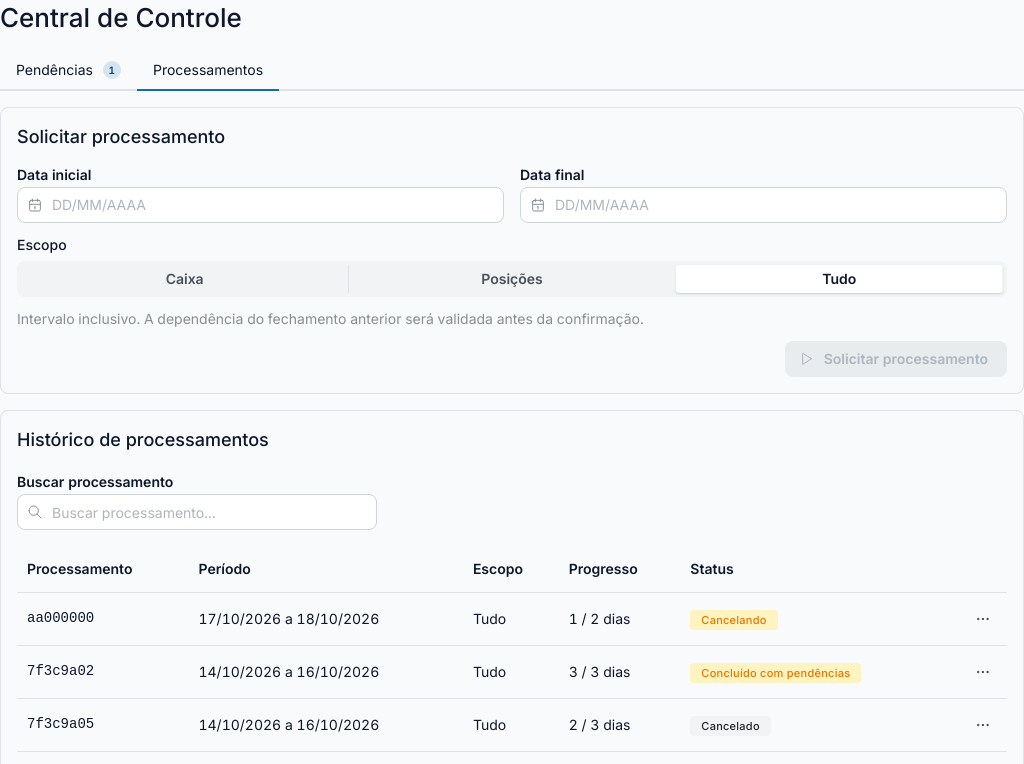
Processamentos: details (§11.1, §10.4) › OQ-46 the details of a running job with a cancel asked show Cancelando and no cancel action
Click the button named "Ações do processamento".
click(983, 619)  # box [969,605,997,633]
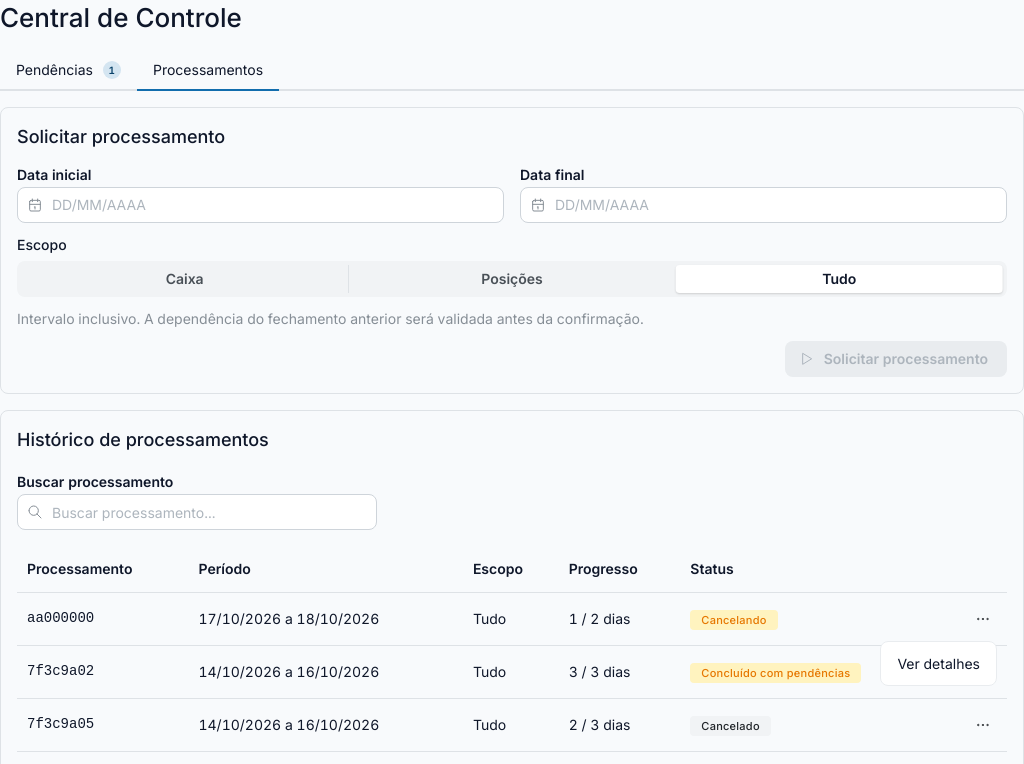
Click the menu item "Ver detalhes".
click(939, 663)  # box [885,646,992,681]
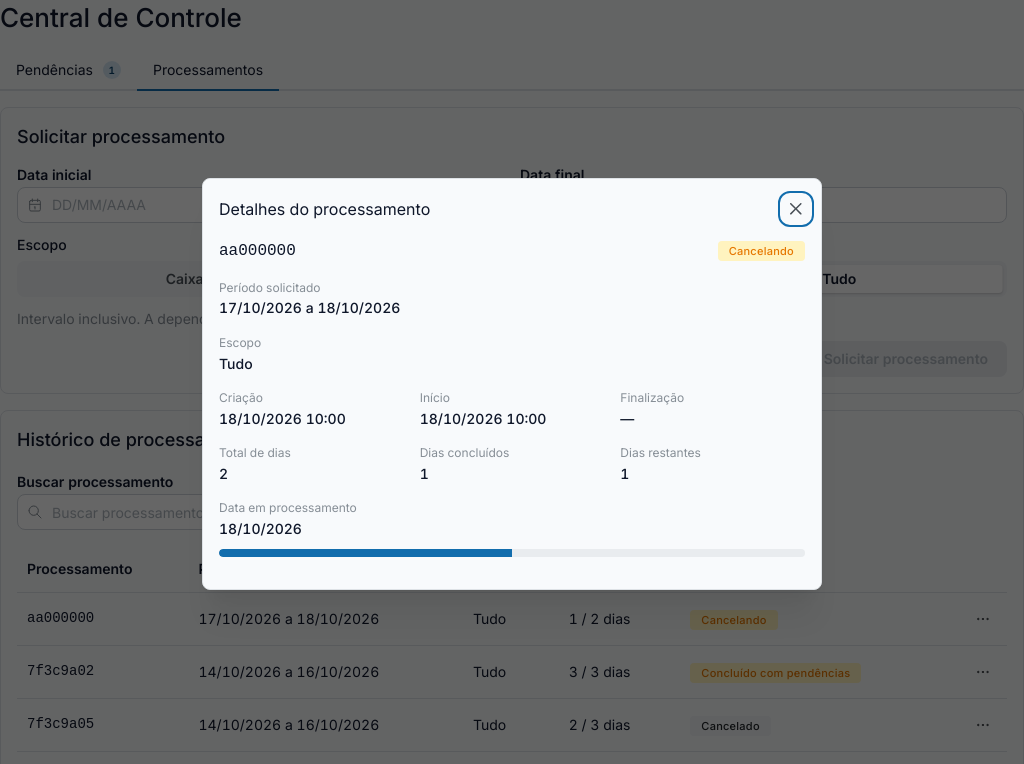
Result: the message reads "Cancelando" at [729,244,794,258]
Result: the text "18/10/2026" is shown at [219,520,302,537]
